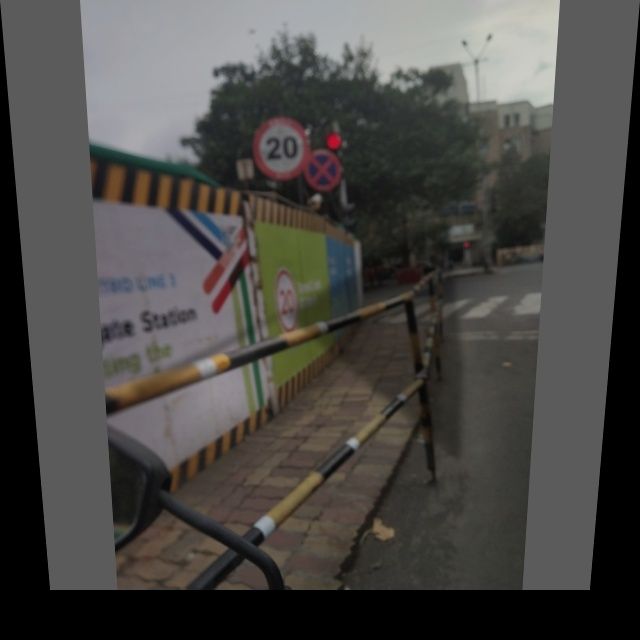Speed_Limit_20: (250, 117, 309, 177)
